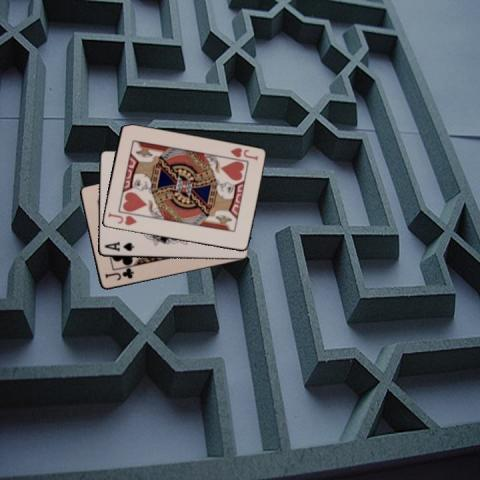As: (102, 238, 136, 252)
Jc: (102, 266, 135, 282)
Jh: (105, 210, 138, 227), (227, 145, 259, 162)
